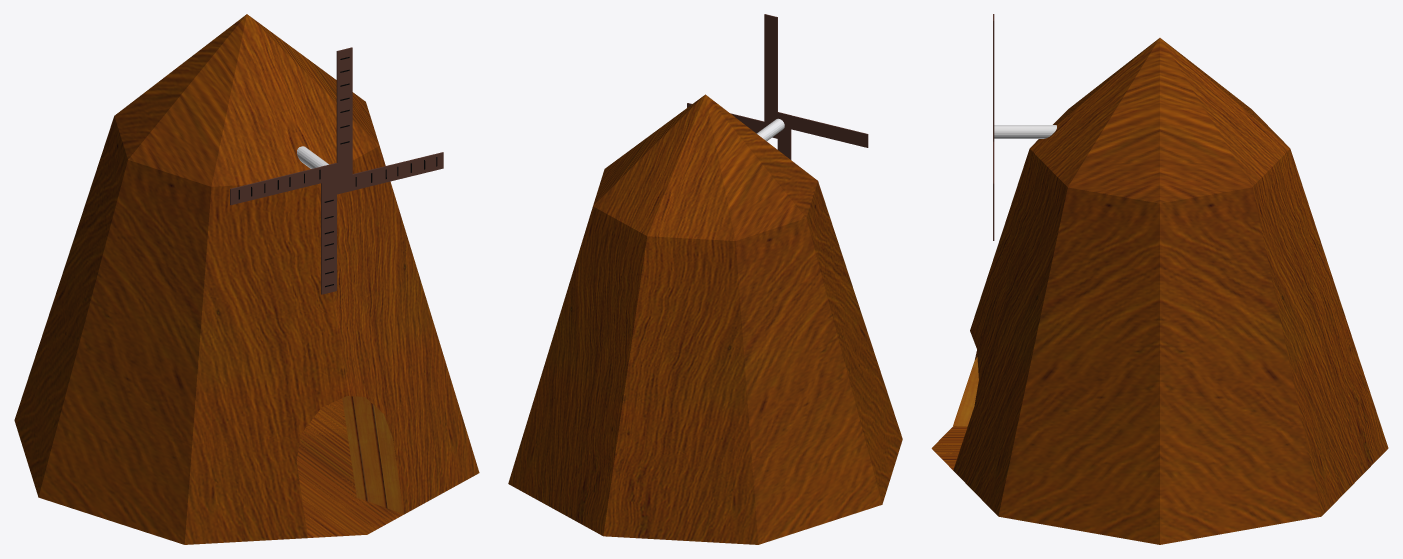
3 renders of one model, left to right at view 1: azimuth 30°, elevation 25°; view 2: azimuth 150°, elevation 25°; view 3: azimuth 270°, elevation 25°, orthographic. The views are drawn at different scales.
Parts seen in each view (by area): view 1: 圓柱體, 平面, 圓柱體.002; view 2: 圓柱體, 平面; view 3: 圓柱體, 圓柱體.001, 圓柱體.003.
Part boxes in pixels (x1,y1,x2,y2): 圓柱體: (14, 14, 479, 544); 平面: (230, 47, 443, 294); 圓柱體.002: (342, 396, 403, 513); 圓柱體: (508, 94, 902, 544); 平面: (687, 14, 868, 159); 圓柱體: (931, 38, 1388, 544); 圓柱體.001: (994, 125, 1056, 138); 圓柱體.003: (953, 357, 978, 426).
Size of the model in its own units: 182 by 182 by 200.
7 materials, 7 textured.
